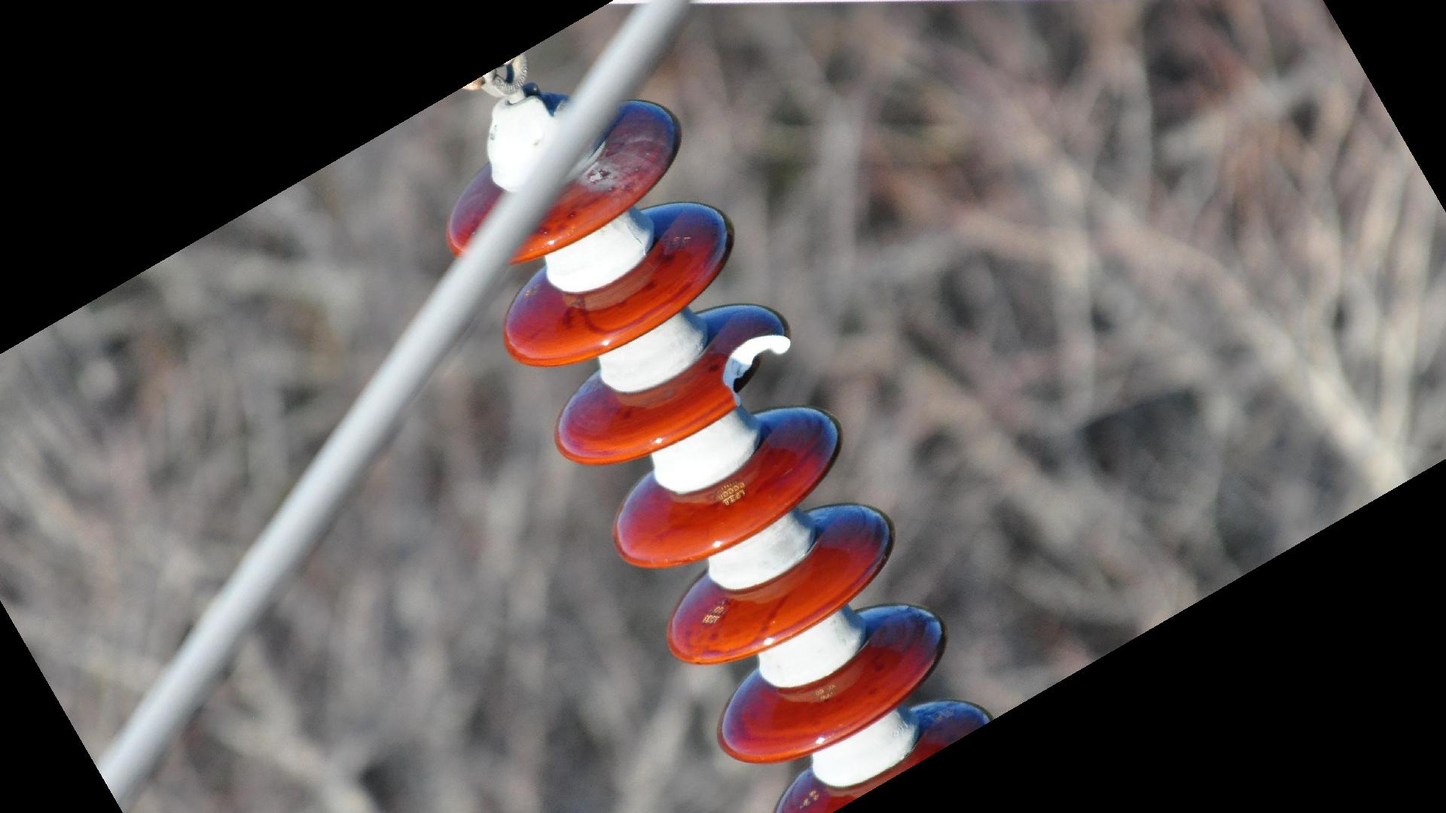insulator: (438, 90, 1000, 813)
insulator_breakage: (716, 323, 797, 413)
